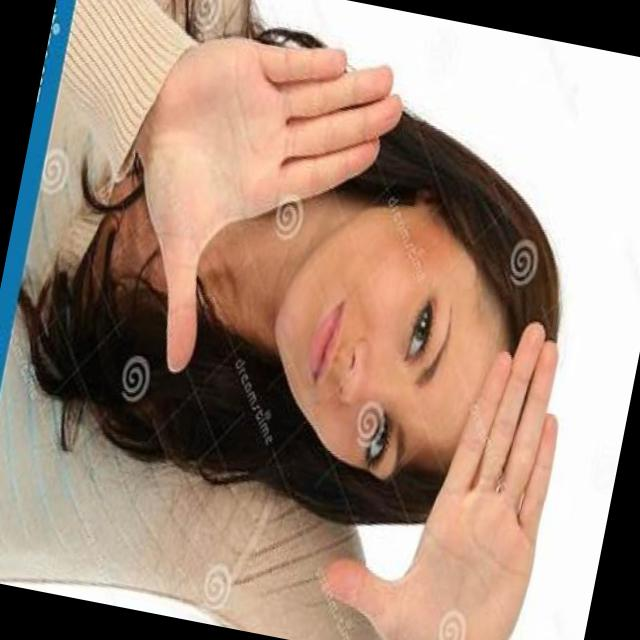not-gloved: (80, 0, 439, 425), (330, 290, 609, 640)
